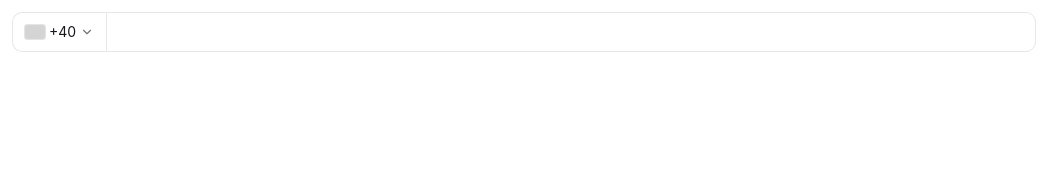
Test: PhoneInput › drops the Romanian trunk 0 from the emitted value as you type, and from the field on blur
In the field named "phone": [571, 32] box left=106, top=12, right=1036, bottom=52, type "0721 234 567"
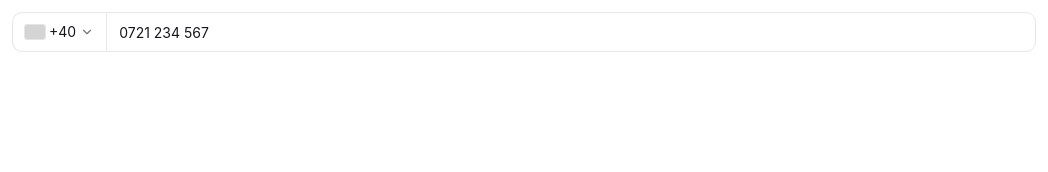
Leave the field named "phone", box left=106, top=12, right=1036, bottom=52
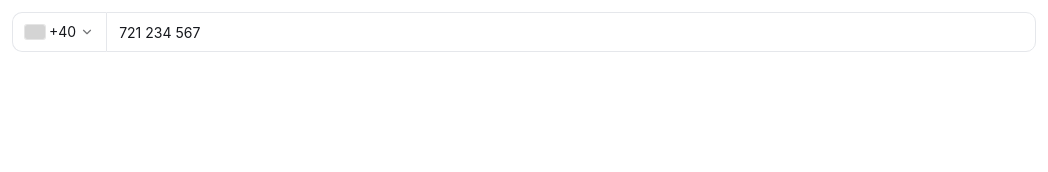
Expected: the field named "phone" holds "721 234 567", left=106, top=12, right=1036, bottom=52
